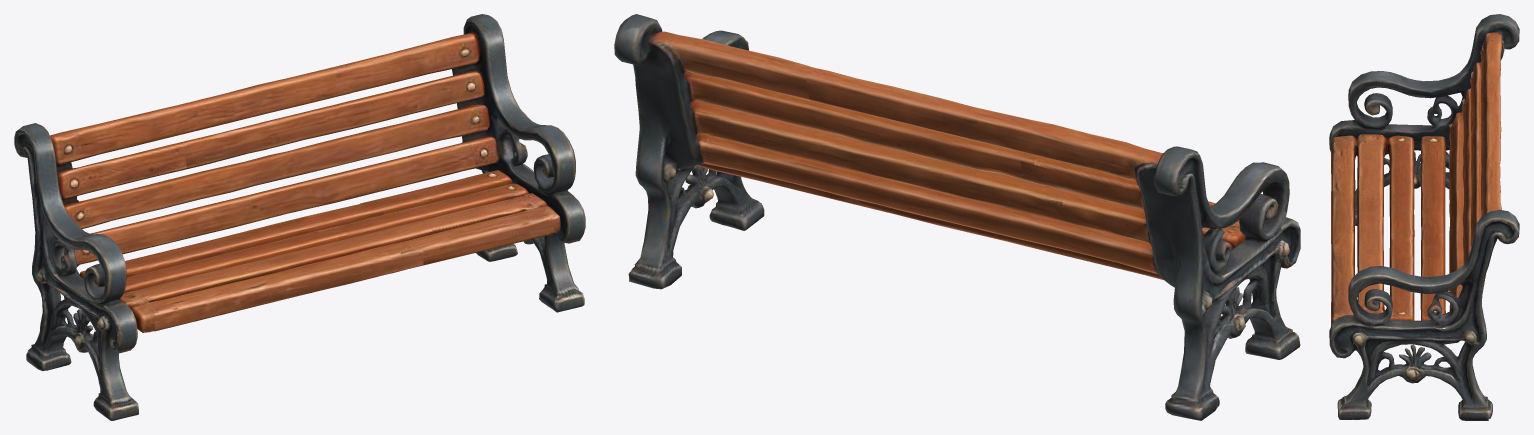
Rendered from base_basic_pbr.glb.
The picture shows the model from 3 angles, left to right: view 1: azimuth 30°, elevation 25°; view 2: azimuth 150°, elevation 25°; view 3: azimuth 270°, elevation 25°; orthographic projection. The views are drawn at different scales.
Parts seen in each view (by area): view 1: model; view 2: model; view 3: model.
Part boxes in pixels (x1=…): model: x1=14, y1=14, x2=585, y2=420; model: x1=614, y1=14, x2=1300, y2=420; model: x1=1329, y1=14, x2=1519, y2=420.
Size of the model in its own units: 1.9 by 0.8587 by 0.7295.
1 material, 1 textured.
